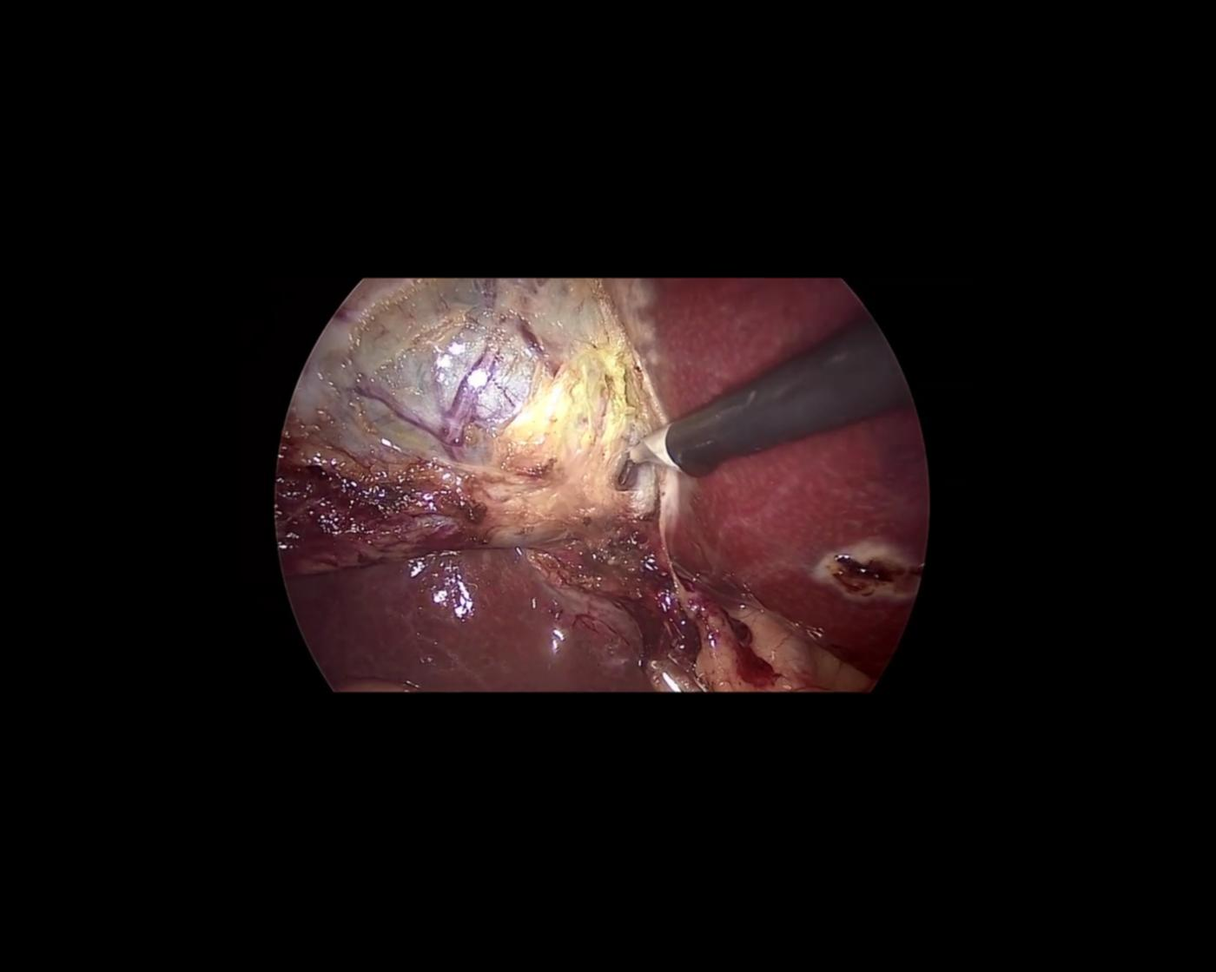Cautery: (602, 308, 917, 545)
Gallbladder: (278, 274, 639, 578)
Liver: (602, 225, 964, 714), (283, 548, 655, 693)
